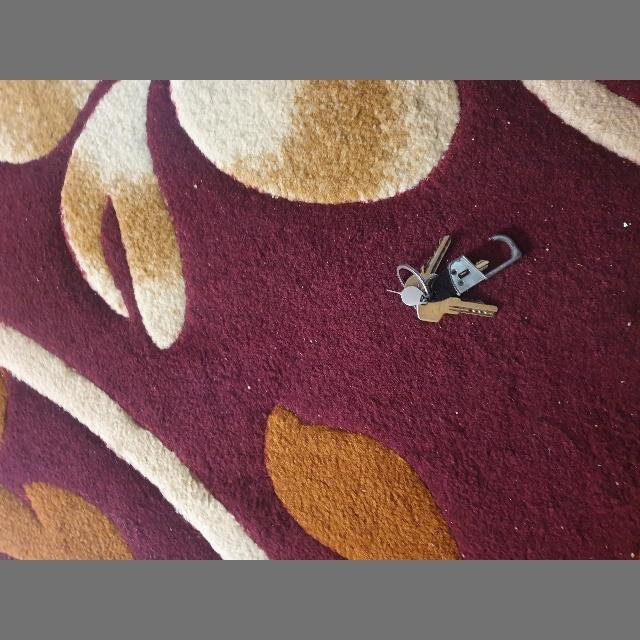Keys: (386, 234, 522, 324)
